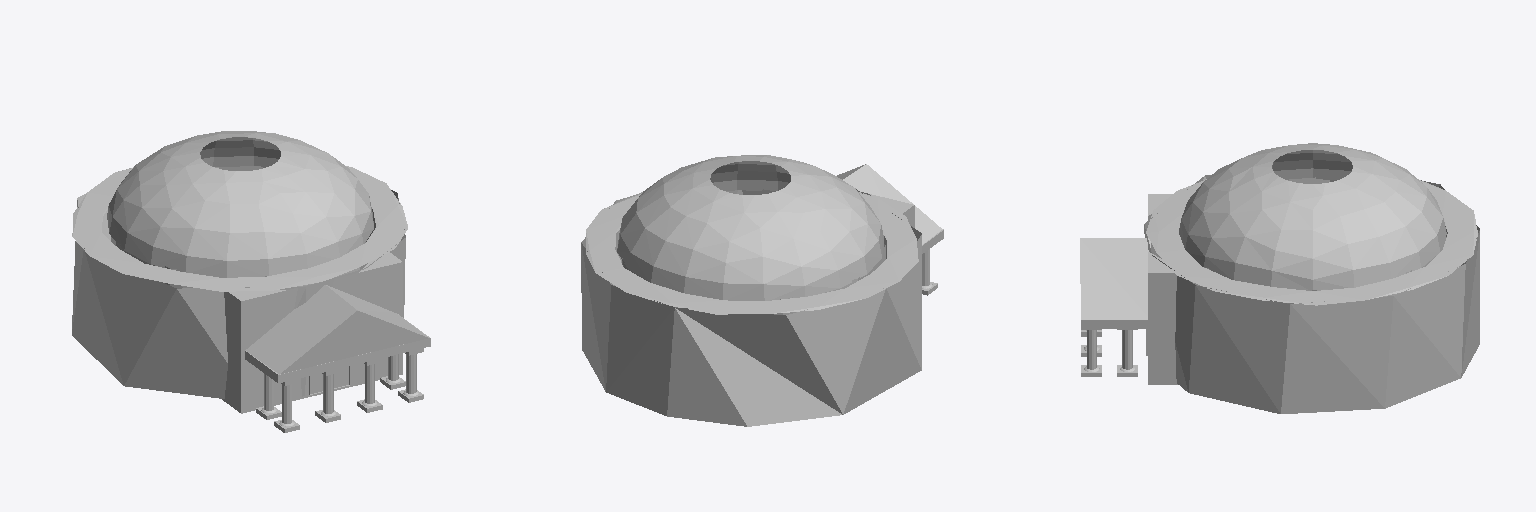
Rendered from pantheon.obj.
3 renders of one model, left to right at view 1: azimuth 30°, elevation 25°; view 2: azimuth 150°, elevation 25°; view 3: azimuth 270°, elevation 25°, orthographic.
Parts seen in each view (by area): view 1: pSphere2_Untitled.006, pCylinder2_Untitled.026, pCube5_Untitled.023, pSphere3_Untitled.021, pasted__pCube6_Untitled.032, pasted__pSphere3_Untitled.030, pCube3_Untitled.031; view 2: pCylinder2_Untitled.026, pSphere2_Untitled.006, pSphere3_Untitled.021, pasted__pSphere3_Untitled.030, pasted__pCube6_Untitled.032; view 3: pCylinder2_Untitled.026, pSphere2_Untitled.006, pSphere3_Untitled.021, pasted__pCube6_Untitled.032, pCube5_Untitled.023, pasted__pSphere3_Untitled.030, pCube3_Untitled.031.
Boxes of the visible parts, <box> form: pSphere2_Untitled.006: <box>107,131,373,277</box>; pCylinder2_Untitled.026: <box>72,167,405,398</box>; pCube5_Untitled.023: <box>222,252,402,413</box>; pSphere3_Untitled.021: <box>72,166,407,291</box>; pasted__pCube6_Untitled.032: <box>245,285,428,374</box>; pasted__pSphere3_Untitled.030: <box>199,137,281,169</box>; pCube3_Untitled.031: <box>245,314,430,383</box>; pCylinder2_Untitled.026: <box>581,189,921,426</box>; pSphere2_Untitled.006: <box>617,155,883,300</box>; pSphere3_Untitled.021: <box>586,192,918,314</box>; pasted__pSphere3_Untitled.030: <box>709,160,791,190</box>; pasted__pCube6_Untitled.032: <box>837,164,942,244</box>; pCylinder2_Untitled.026: <box>1144,175,1479,413</box>; pSphere2_Untitled.006: <box>1179,143,1446,290</box>; pSphere3_Untitled.021: <box>1146,179,1477,305</box>; pasted__pCube6_Untitled.032: <box>1080,238,1150,319</box>; pCube5_Untitled.023: <box>1148,194,1202,384</box>; pasted__pSphere3_Untitled.030: <box>1271,149,1353,183</box>; pCube3_Untitled.031: <box>1081,320,1147,328</box>.
Size of the model in its own units: 0.2877 by 0.166 by 0.3353.